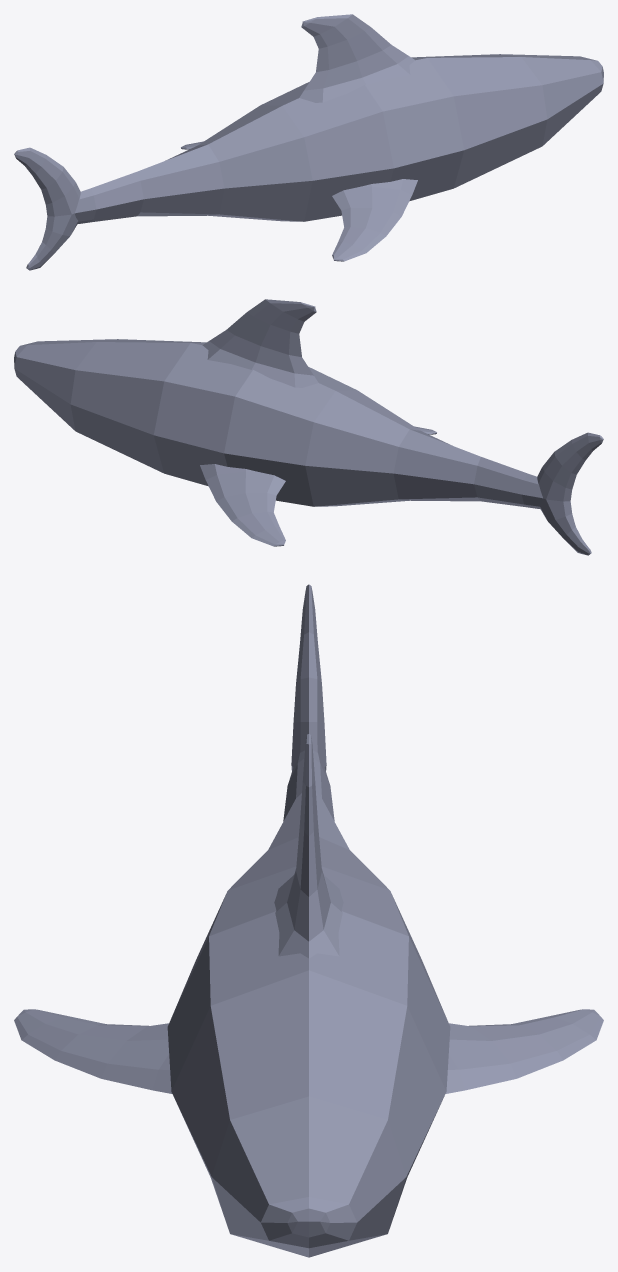
The model's file is Shark.fbx.
3 renders of one model, top to bottom at view 1: azimuth 30°, elevation 25°; view 2: azimuth 150°, elevation 25°; view 3: azimuth 270°, elevation 25°, orthographic. The views are drawn at different scales.
Visible parts, largest first — view 1: Shark; view 2: Shark; view 3: Shark.
Part boxes in pixels (<box>): Shark: <box>14,14,603,270</box>; Shark: <box>14,299,603,555</box>; Shark: <box>14,584,603,1257</box>.
Size of the model in its own units: 353 by 116 by 166.
